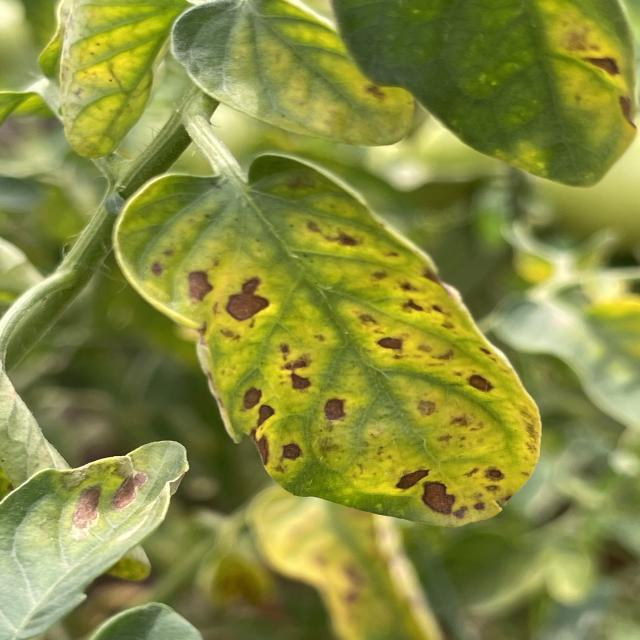tomato_early blight: (115, 151, 538, 520), (337, 0, 640, 187), (0, 440, 186, 639), (170, 2, 422, 147), (250, 470, 445, 640), (55, 0, 182, 163)
